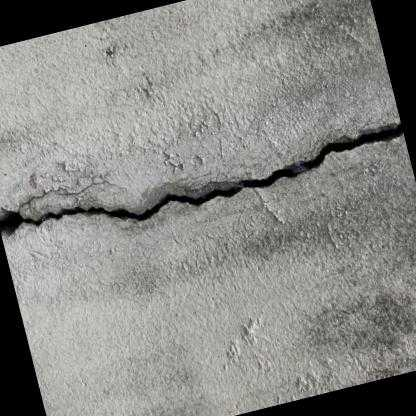crack: (0, 120, 403, 238)
